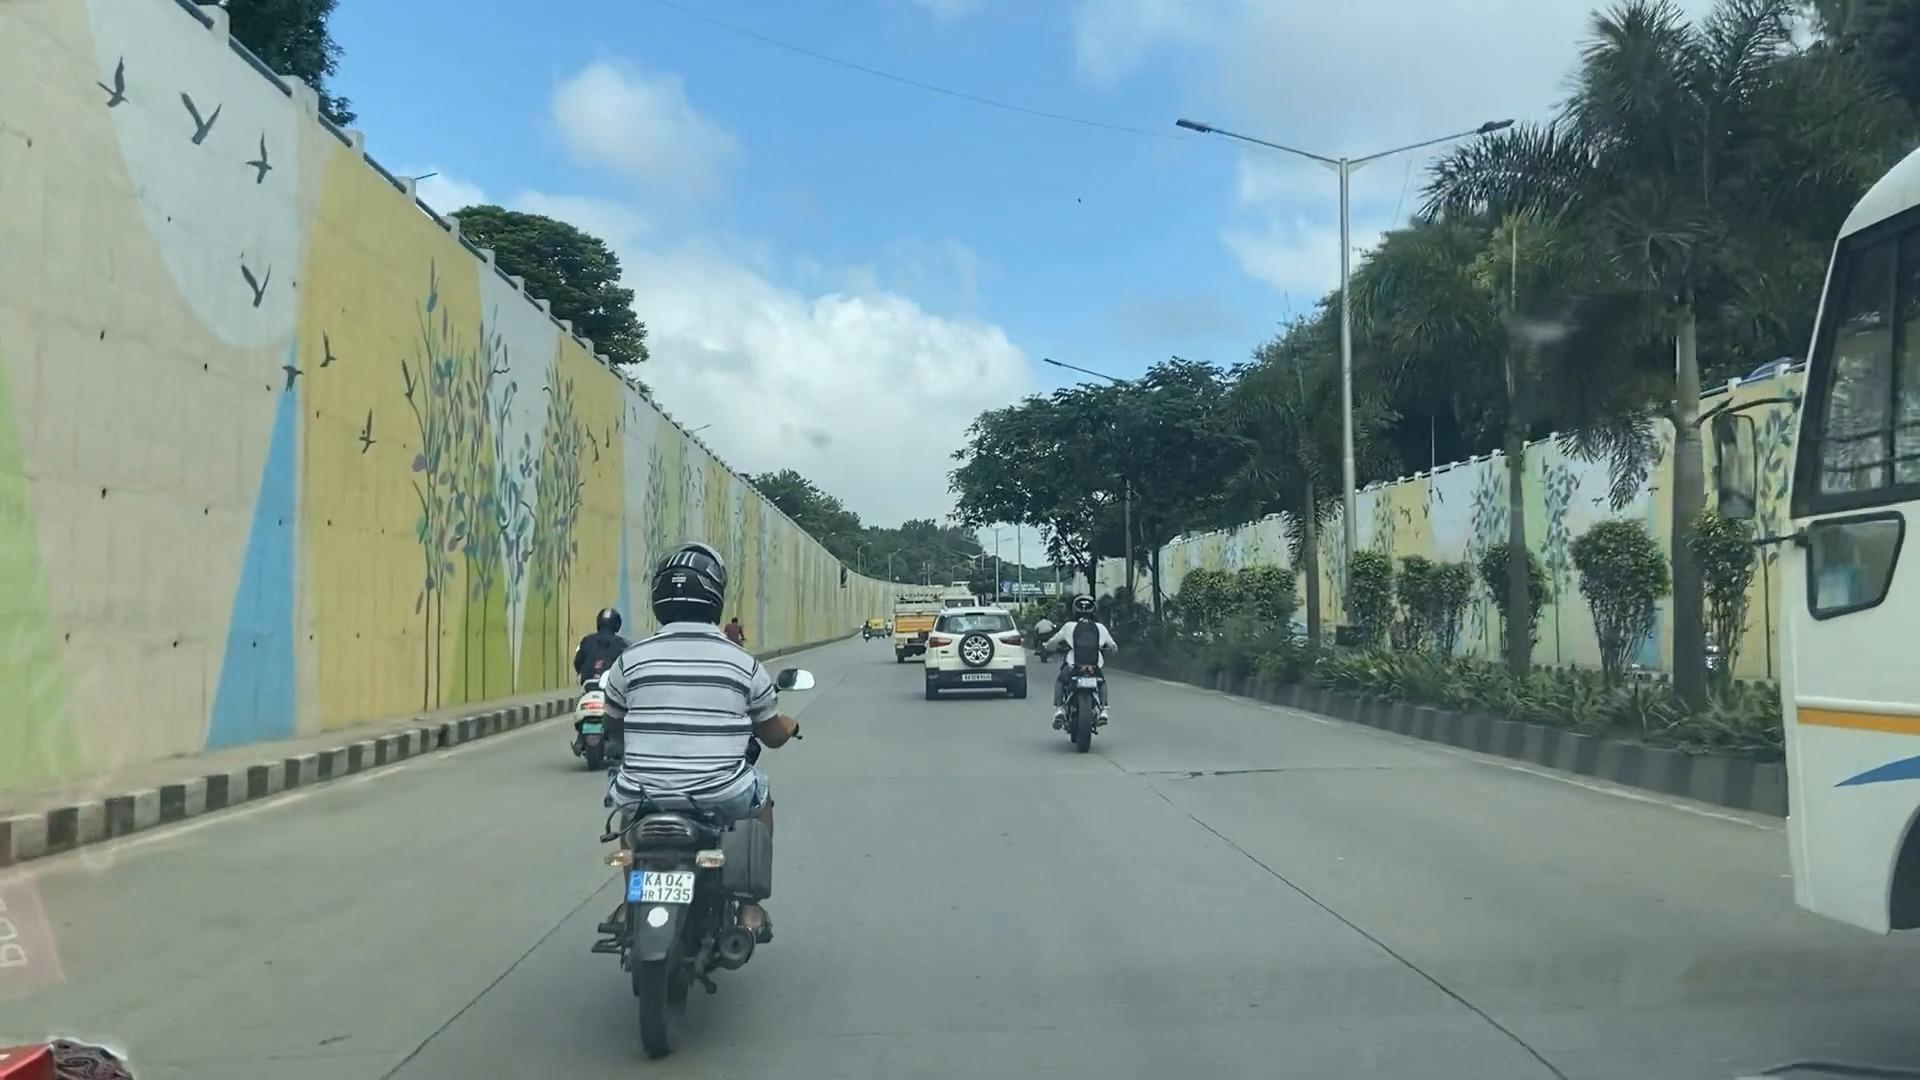LMV: (611, 538, 771, 996), (1052, 587, 1117, 756), (928, 596, 1026, 694)
